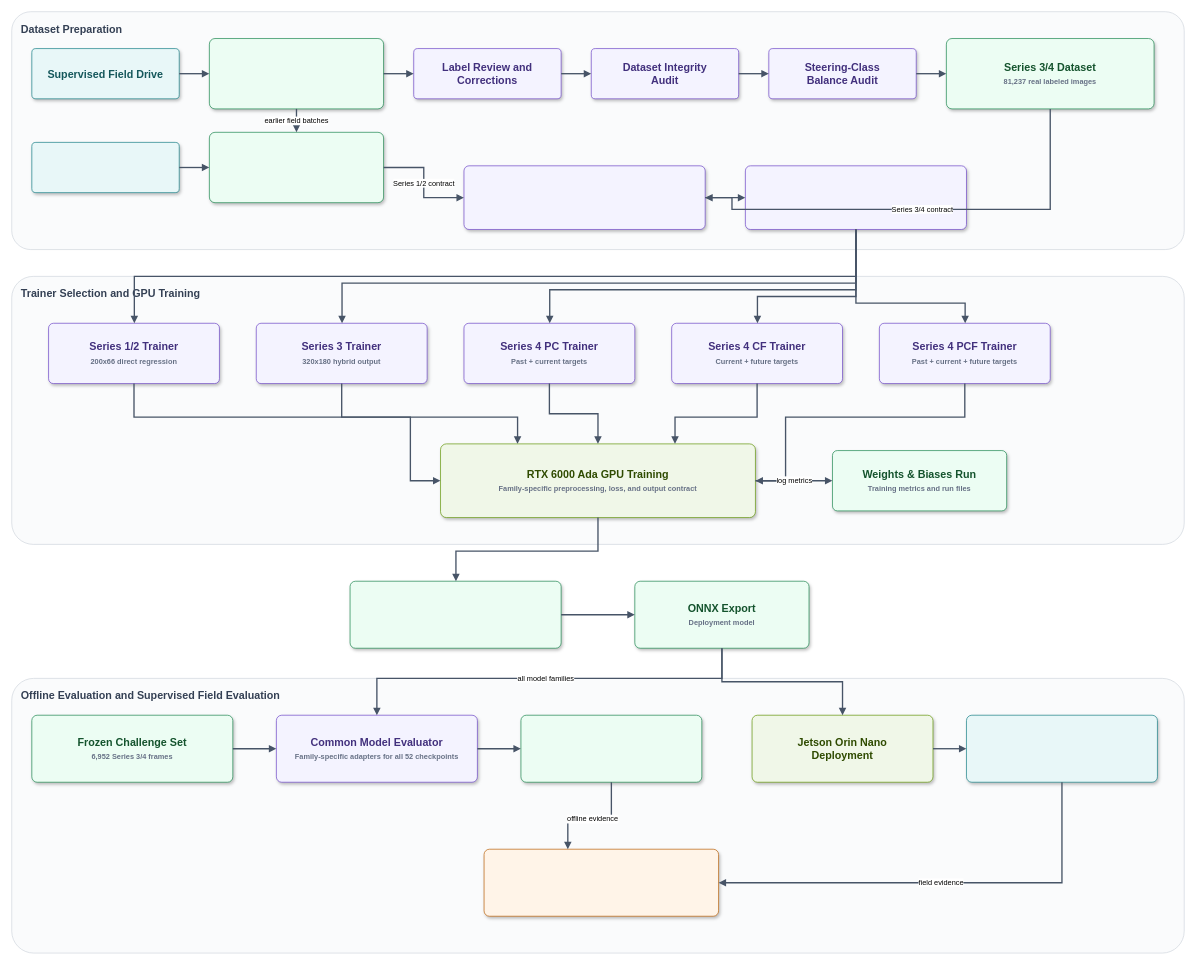
This 1196x965 diagram has some shape labels left out. Here are the shapes that lost their labels. From the top down, the centre of each, then its label:
At pixel 297 74: "JPEG Frames + Labels Logical steering and absolute throttle".
At pixel 105 168: "CARLA Image Generation".
At pixel 297 168: "Series 1/2 Dataset Earlier real batches + CARLA-assisted images".
At pixel 585 198: "Family-Specific Train / Validation Split".
At pixel 856 198: "Weighted Sampling + Image Augmentation".
At pixel 456 615: "Trained Models Final and validation-selected models".
At pixel 612 749: "Steering Model Report PDF".
At pixel 1062 749: "Supervised Field Comparison".
At pixel 602 883: "Model Selection Decision Offline evidence + physical-car behavior".
